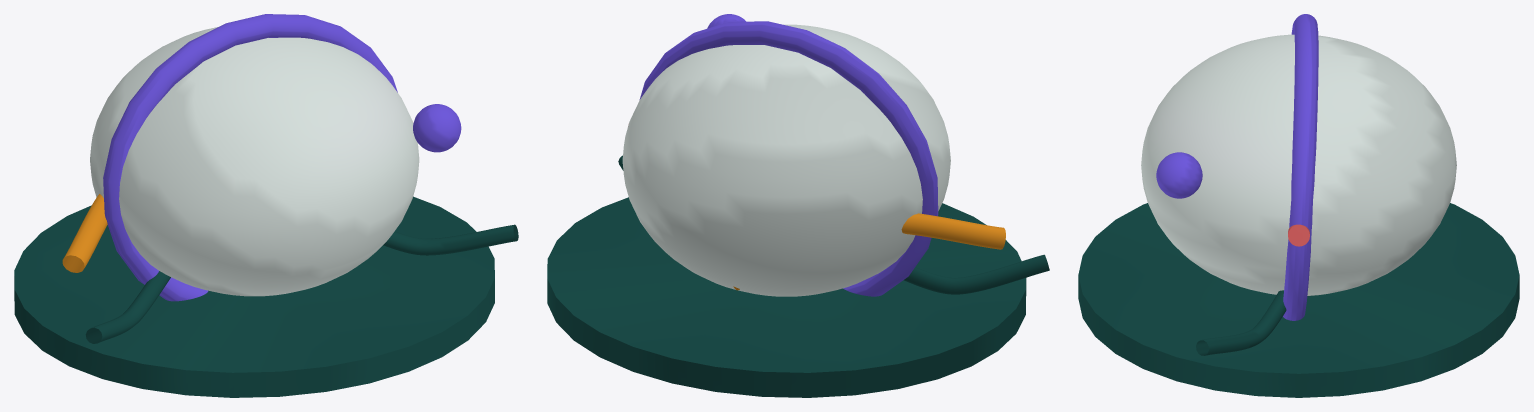
The model's file is 0420_微生物图鉴_酵母菌.glb.
3 views of the same model, side by side, from view 1: azimuth 30°, elevation 25°; view 2: azimuth 150°, elevation 25°; view 3: azimuth 270°, elevation 25° (orthographic). The views are drawn at different scales.
Visible parts, largest first — view 1: card_0420; view 2: card_0420; view 3: card_0420.
Boxes of the visible parts, x1=… form: card_0420: x1=14, y1=14, x2=518, y2=397; card_0420: x1=547, y1=14, x2=1049, y2=397; card_0420: x1=1078, y1=14, x2=1519, y2=397.
Bounding box in the file's own units: 1.59 × 1 × 1.47.
